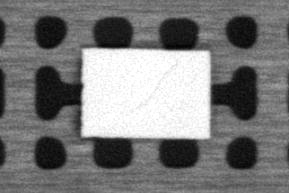DIE_CRACK: (141, 61, 177, 105)
